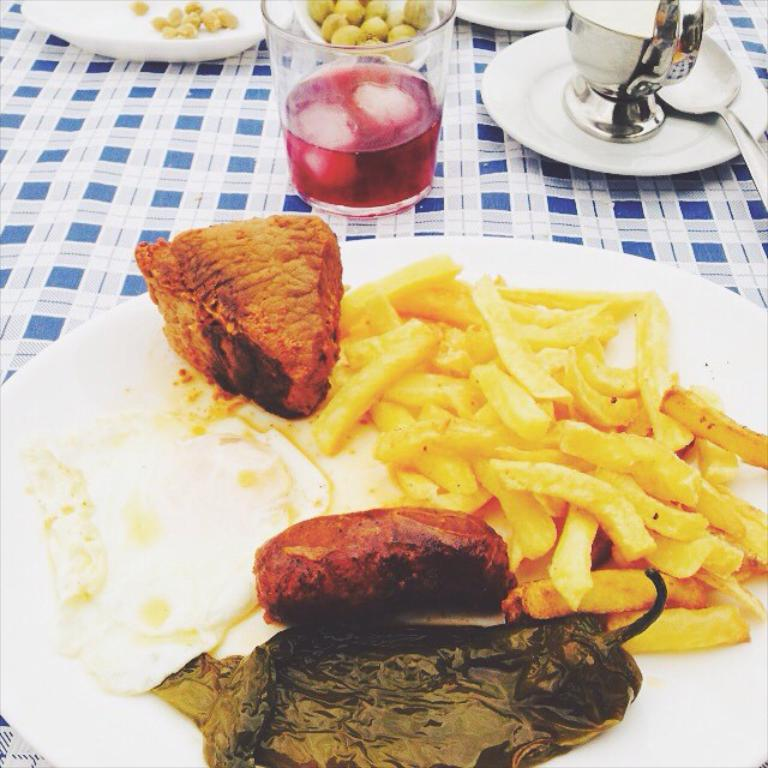French fries: (276, 224, 746, 652)
